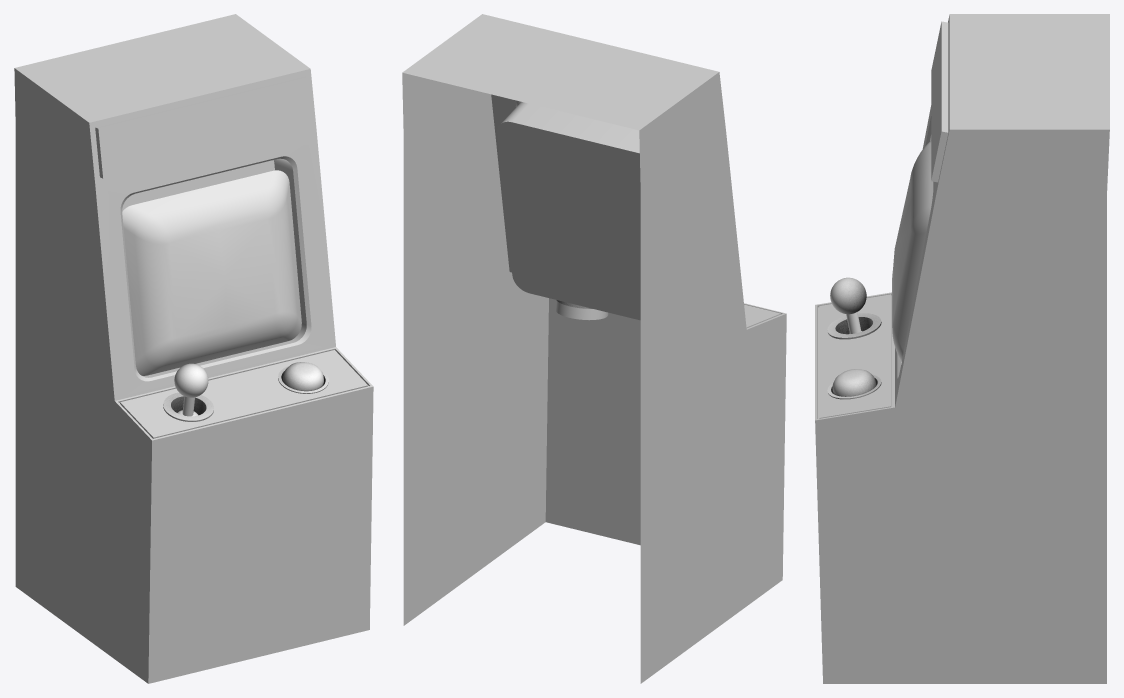
The model's file is Cabinet.fbx.
3 views of the same model, side by side, from view 1: azimuth 30°, elevation 25°; view 2: azimuth 150°, elevation 25°; view 3: azimuth 270°, elevation 25° (orthographic). The views are drawn at different scales.
Visible parts, largest first — view 1: Cube.002, Cube.003, Sphere, Sphere.003, Sphere.002; view 2: Cube.002; view 3: Cube.002, Cube.003, Sphere, Sphere.003, Sphere.002.
Boxes of the visible parts, left/top/right/bottom form: Cube.002: left=14, top=14, right=373, bottom=683; Cube.003: left=122, top=170, right=301, bottom=375; Sphere: left=174, top=363, right=208, bottom=416; Sphere.003: left=282, top=362, right=323, bottom=391; Sphere.002: left=163, top=392, right=213, bottom=421; Cube.002: left=402, top=14, right=786, bottom=683; Cube.002: left=815, top=14, right=1109, bottom=683; Cube.003: left=892, top=140, right=933, bottom=361; Sphere: left=830, top=277, right=866, bottom=334; Sphere.003: left=832, top=369, right=876, bottom=396; Sphere.002: left=827, top=313, right=881, bottom=339.
Bounding box in the file's own units: 193 × 431 × 208.
Materials: 5 (2 with a texture image).
